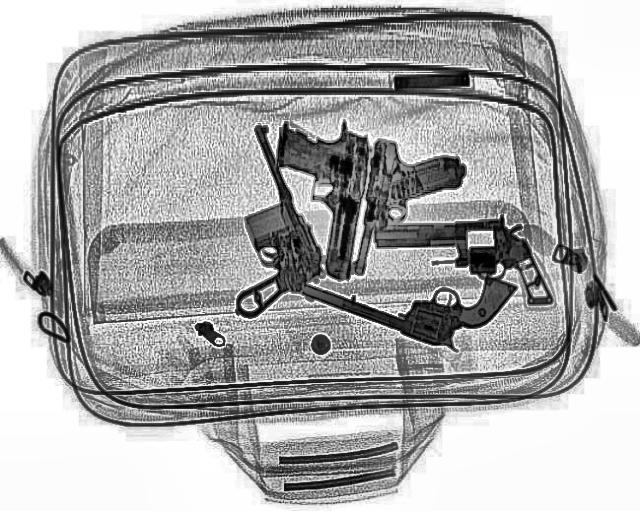Gun: (161, 122, 343, 320), (294, 220, 520, 358), (254, 114, 374, 280), (347, 134, 469, 282), (371, 212, 553, 308)
